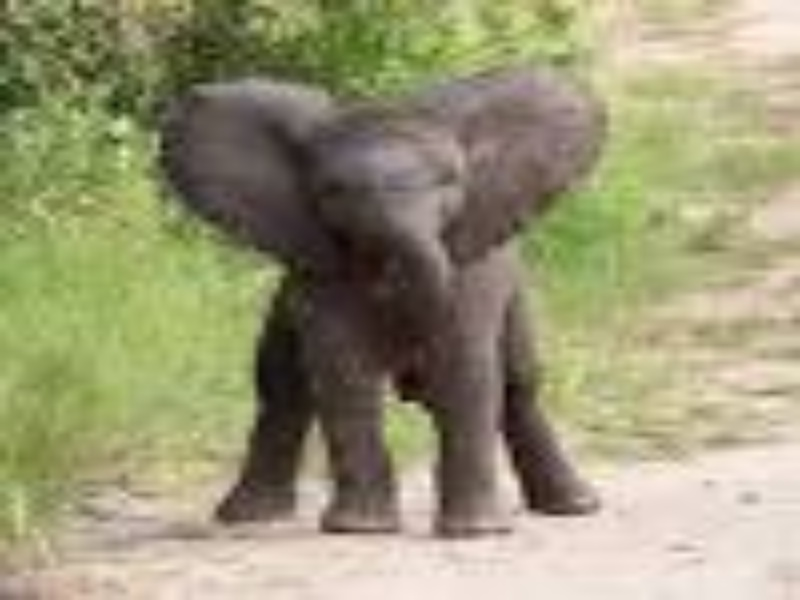elephant: (151, 61, 609, 537)
